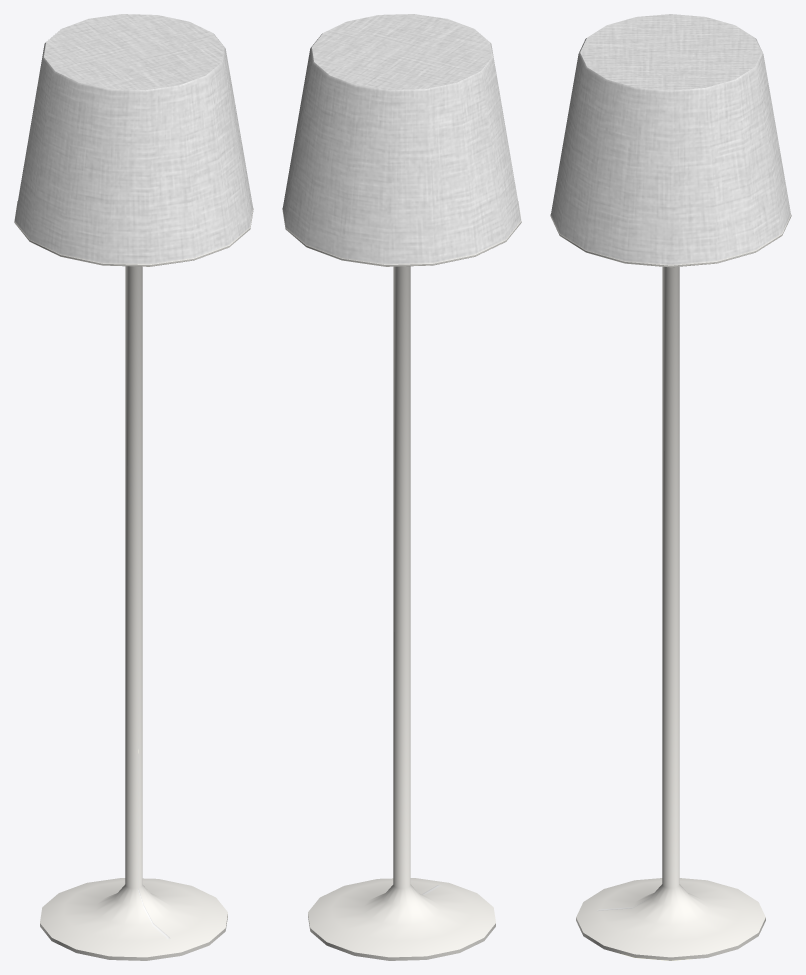
Rendered from FloorLamp.fbx.
3 views of the same model, side by side, from view 1: azimuth 30°, elevation 25°; view 2: azimuth 150°, elevation 25°; view 3: azimuth 270°, elevation 25° (orthographic).
Parts seen in each view (by area): view 1: FloorLamp02; view 2: FloorLamp02; view 3: FloorLamp02.
Part boxes in pixels (x1,y1,x2,y2): FloorLamp02: [14, 14, 253, 960]; FloorLamp02: [282, 14, 521, 960]; FloorLamp02: [550, 14, 791, 960].
Bounding box in the file's own units: 87.57 × 349 × 87.57.
